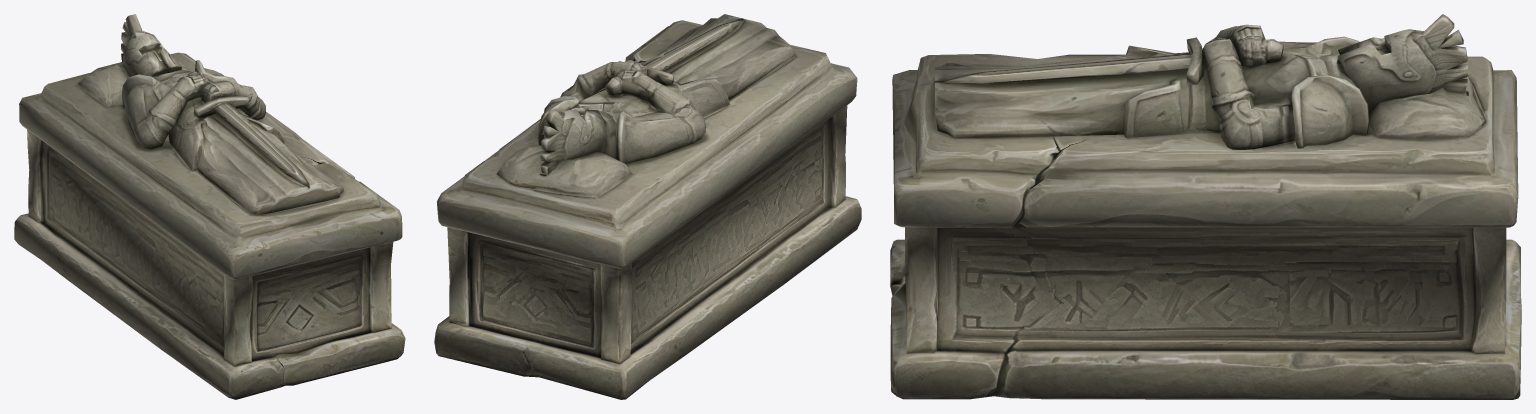
The model's file is sarcofago.fbx.
3 renders of one model, left to right at view 1: azimuth 30°, elevation 25°; view 2: azimuth 150°, elevation 25°; view 3: azimuth 270°, elevation 25°, orthographic. The views are drawn at different scales.
Visible parts, largest first — view 1: tripo_node_32de583c; view 2: tripo_node_32de583c; view 3: tripo_node_32de583c.
Part boxes in pixels (<box>): tripo_node_32de583c: <box>14,14,405,399</box>; tripo_node_32de583c: <box>434,14,861,399</box>; tripo_node_32de583c: <box>890,14,1521,399</box>.
Size of the model in its own units: 0.4697 by 0.5708 by 0.9995.
1 material, 1 textured.
